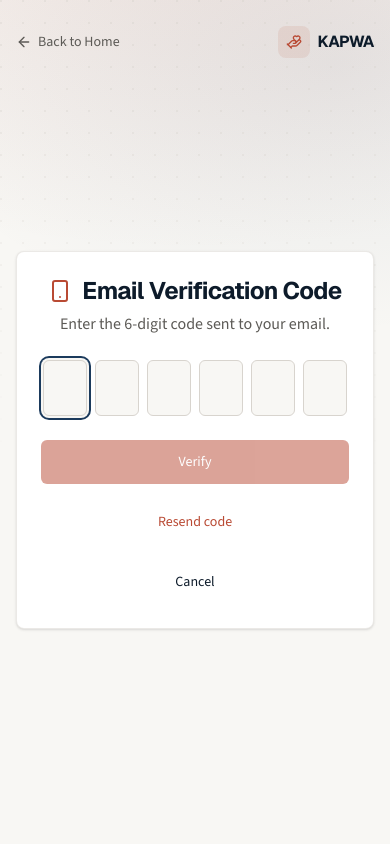
LoginPage › resends the email code from the challenge screen
What coordinates should you click on to do the following:
click the button "Resend code"
I would click on:
 (195, 522)
Its box is [158, 500, 232, 544].
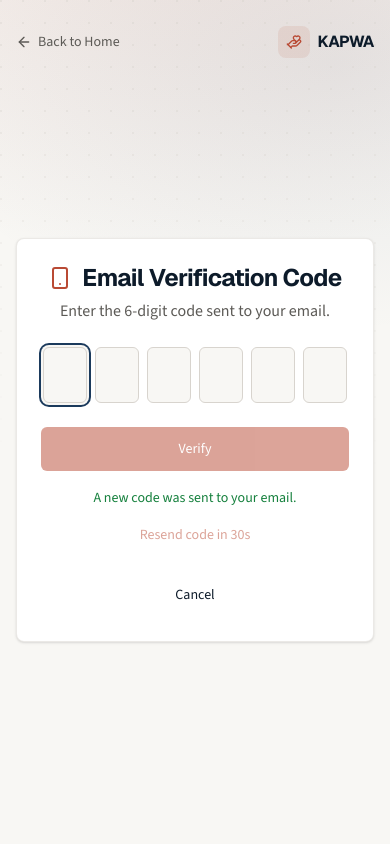
Check: the text "A new code was sent to your email." is shown, box [93, 488, 297, 507]
